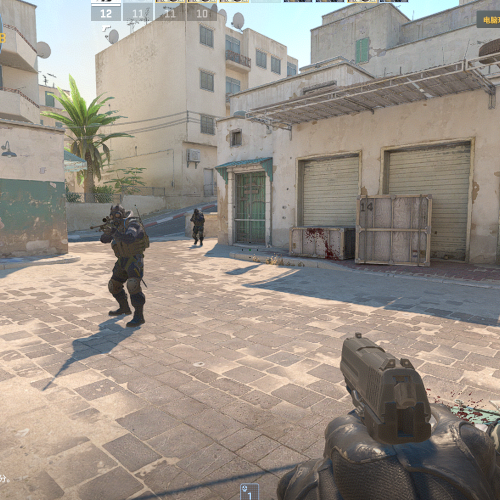ct_body: (100, 205, 147, 326), (190, 209, 205, 248)
ct_head: (109, 204, 127, 224), (193, 209, 200, 216)
